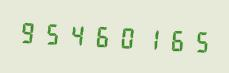five: (41, 16, 64, 50), (185, 23, 208, 57)
four: (65, 17, 88, 51)
nine: (17, 14, 40, 49)
one: (137, 21, 160, 55)
six: (89, 18, 112, 52), (161, 22, 184, 56)
zero: (113, 19, 136, 54)
